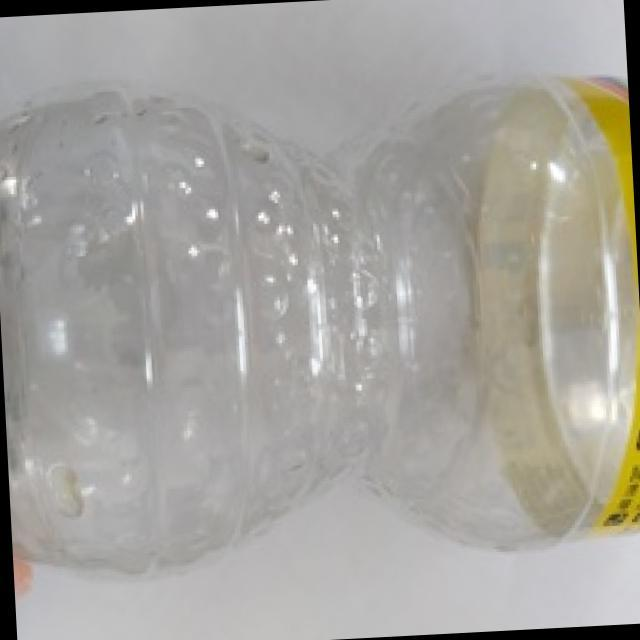good: (0, 46, 640, 575)
